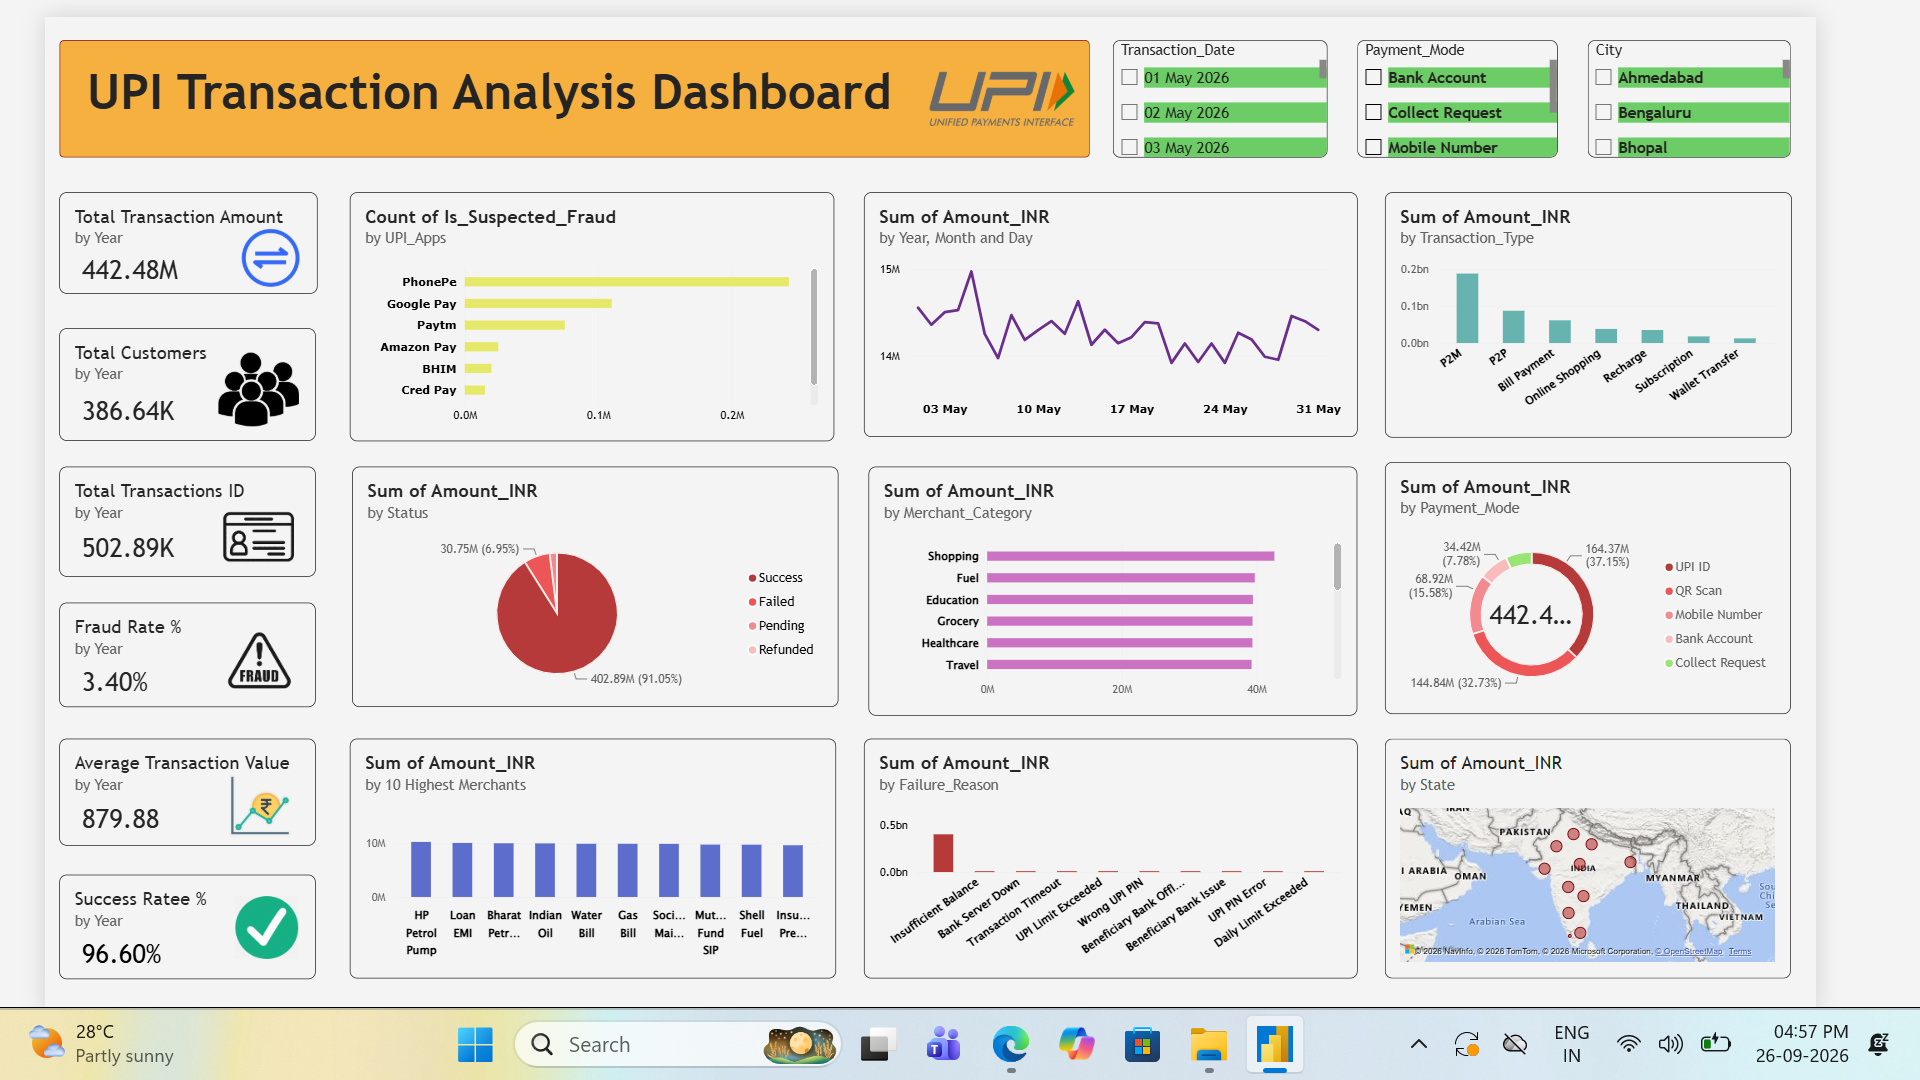

This screenshot's page, from the dashboard's own definition file:
{"tool":"powerbi","page":{"name":"Page 1","canvas":[1920,1080],"ordinal":0},"visuals":[{"type":"shape","box":[15,25,1117.5,127.5],"z":0},{"type":"kpi","fields":{"Indicator":["UPI Transaction Data.Total Transactions"],"TrendLine":["UPI Transaction Data.Transaction_Date.Variation.Date Hierarchy.Year"]},"box":[14.2,487.6,277.8,119.1],"z":1000},{"type":"kpi","fields":{"TrendLine":["UPI Transaction Data.Transaction_Date.Variation.Date Hierarchy.Year"],"Indicator":["UPI Transaction Data.Fraud Rate %"]},"box":[14.2,635,277.8,113.4],"z":2000},{"type":"kpi","fields":{"Indicator":["UPI Transaction Data.Average Transaction Value"],"TrendLine":["UPI Transaction Data.Transaction_Date.Variation.Date Hierarchy.Year"]},"box":[14.2,782.4,277.8,116.2],"z":3000},{"type":"kpi","fields":{"Indicator":["UPI Transaction Data.Success Ratee %"],"TrendLine":["UPI Transaction Data.Transaction_Date.Variation.Date Hierarchy.Year"]},"box":[14.2,929.8,277.8,113.4],"z":4000},{"type":"kpi","fields":{"Indicator":["UPI Transaction Data.Total Customers"],"TrendLine":["UPI Transaction Data.Transaction_Date.Variation.Date Hierarchy.Year"]},"box":[14.2,337.3,277.8,121.9],"z":5000},{"type":"barChart","fields":{"Category":["UPI Transaction Data.Merchant_Category"],"Y":["Sum(UPI Transaction Data.Amount_INR)"]},"box":[892.5,487.5,530,270],"z":6000},{"type":"lineChart","fields":{"Y":["Sum(UPI Transaction Data.Amount_INR)"],"Category":["UPI Transaction Data.Transaction_Date.Variation.Date Hierarchy.Year","UPI Transaction Data.Transaction_Date.Variation.Date Hierarchy.Month","UPI Transaction Data.Transaction_Date.Variation.Date Hierarchy.Day"]},"box":[887.5,190,535,265],"z":7000},{"type":"kpi","fields":{"TrendLine":["UPI Transaction Data.Transaction_Date.Variation.Date Hierarchy.Year"],"Indicator":["Sum(UPI Transaction Data.Amount_INR)"]},"box":[15,190,280,110],"z":8000},{"type":"barChart","fields":{"Category":["UPI Transaction Data.UPI_App"],"Y":["CountNonNull(UPI Transaction Data.Is_Suspected_Fraud)"]},"box":[330,190,525,270],"z":9000},{"type":"pieChart","fields":{"Category":["UPI Transaction Data.Status"],"Y":["Sum(UPI Transaction Data.Amount_INR)"]},"box":[331.7,487.6,527.2,260.8],"z":10000},{"type":"donutChart","fields":{"Category":["UPI Transaction Data.Payment_Mode"],"Y":["Sum(UPI Transaction Data.Amount_INR)"]},"box":[1452.5,482.5,440,273.3],"z":11000},{"type":"lineClusteredColumnComboChart","fields":{"Category":["UPI Transaction Data.Failure_Reason"],"Y":["Sum(UPI Transaction Data.Amount_INR)"]},"box":[887.5,782.5,535,260],"z":12000},{"type":"lineStackedColumnComboChart","fields":{"Category":["UPI Transaction Data.Transaction_Type"],"Y":["Sum(UPI Transaction Data.Amount_INR)"]},"box":[1451.7,189.9,441.1,265.8],"z":13000},{"type":"map","fields":{"Category":["UPI Transaction Data.State"],"Size":["Sum(UPI Transaction Data.Amount_INR)"]},"box":[1452.5,782.5,440,260],"z":14000},{"type":"columnChart","fields":{"Y":["Sum(UPI Transaction Data.Amount_INR)"],"Category":["UPI Transaction Data.Merchant_Name"]},"box":[330,782.5,527.5,260],"z":15000},{"type":"slicer","fields":{"Values":["UPI Transaction Data.Transaction_Date"]},"box":[1157.5,25,232.5,127.5],"z":16000},{"type":"slicer","fields":{"Values":["UPI Transaction Data.Payment_Mode"]},"box":[1422.5,25,217.5,127.5],"z":17000},{"type":"slicer","fields":{"Values":["UPI Transaction Data.City"]},"box":[1672.5,25,220,127.5],"z":18000},{"type":"image","box":[920,10,235,157.5],"z":19000},{"type":"textbox","box":[45,50,950,95],"z":20000},{"type":"image","box":[187.5,352.5,87.5,102.5],"z":21000},{"type":"image","box":[167.5,510,127.5,107.5],"z":22000},{"type":"image","box":[167.5,647.5,127.5,107.5],"z":23000},{"type":"image","box":[190,815,85,80],"z":24000},{"type":"image","box":[205,945,70,85],"z":25000},{"type":"image","box":[190,222.5,107.5,77.5],"z":26001}]}

Visuals, with their boxes on the page's 1920x1080 design canvas (x1, y1, x2, y2). These are canvas units, not pixel positions in the 1920x1080 screenshot, which may show the page scaled, cropped or inside an application window:
shape: <bbox>15, 25, 1132, 152</bbox>
kpi - UPI Transaction Data.Total Transactions x UPI Transaction Data.Transaction_Date.Variation.Date Hierarchy.Year: <bbox>14, 488, 292, 607</bbox>
kpi - UPI Transaction Data.Transaction_Date.Variation.Date Hierarchy.Year x UPI Transaction Data.Fraud Rate %: <bbox>14, 635, 292, 748</bbox>
kpi - UPI Transaction Data.Average Transaction Value x UPI Transaction Data.Transaction_Date.Variation.Date Hierarchy.Year: <bbox>14, 782, 292, 899</bbox>
kpi - UPI Transaction Data.Success Ratee % x UPI Transaction Data.Transaction_Date.Variation.Date Hierarchy.Year: <bbox>14, 930, 292, 1043</bbox>
kpi - UPI Transaction Data.Total Customers x UPI Transaction Data.Transaction_Date.Variation.Date Hierarchy.Year: <bbox>14, 337, 292, 459</bbox>
barChart - UPI Transaction Data.Merchant_Category x Sum(UPI Transaction Data.Amount_INR): <bbox>892, 488, 1422, 758</bbox>
lineChart - Sum(UPI Transaction Data.Amount_INR) x UPI Transaction Data.Transaction_Date.Variation.Date Hierarchy.Year: <bbox>888, 190, 1422, 455</bbox>
kpi - UPI Transaction Data.Transaction_Date.Variation.Date Hierarchy.Year x Sum(UPI Transaction Data.Amount_INR): <bbox>15, 190, 295, 300</bbox>
barChart - UPI Transaction Data.UPI_App x CountNonNull(UPI Transaction Data.Is_Suspected_Fraud): <bbox>330, 190, 855, 460</bbox>
pieChart - UPI Transaction Data.Status x Sum(UPI Transaction Data.Amount_INR): <bbox>332, 488, 859, 748</bbox>
donutChart - UPI Transaction Data.Payment_Mode x Sum(UPI Transaction Data.Amount_INR): <bbox>1452, 482, 1892, 756</bbox>
lineClusteredColumnComboChart - UPI Transaction Data.Failure_Reason x Sum(UPI Transaction Data.Amount_INR): <bbox>888, 782, 1422, 1042</bbox>
lineStackedColumnComboChart - UPI Transaction Data.Transaction_Type x Sum(UPI Transaction Data.Amount_INR): <bbox>1452, 190, 1893, 456</bbox>
map - UPI Transaction Data.State x Sum(UPI Transaction Data.Amount_INR): <bbox>1452, 782, 1892, 1042</bbox>
columnChart - Sum(UPI Transaction Data.Amount_INR) x UPI Transaction Data.Merchant_Name: <bbox>330, 782, 858, 1042</bbox>
slicer - UPI Transaction Data.Transaction_Date: <bbox>1158, 25, 1390, 152</bbox>
slicer - UPI Transaction Data.Payment_Mode: <bbox>1422, 25, 1640, 152</bbox>
slicer - UPI Transaction Data.City: <bbox>1672, 25, 1892, 152</bbox>
image: <bbox>920, 10, 1155, 168</bbox>
textbox: <bbox>45, 50, 995, 145</bbox>
image: <bbox>188, 352, 275, 455</bbox>
image: <bbox>168, 510, 295, 618</bbox>
image: <bbox>168, 648, 295, 755</bbox>
image: <bbox>190, 815, 275, 895</bbox>
image: <bbox>205, 945, 275, 1030</bbox>
image: <bbox>190, 222, 298, 300</bbox>
